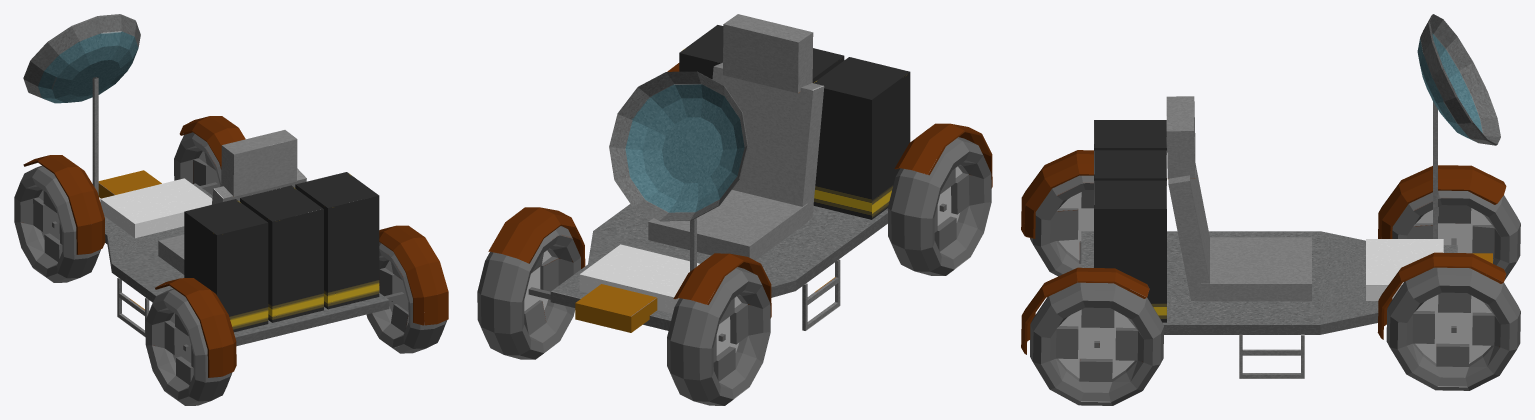
File: buggyInv.obj
3 views of the same model, side by side, from view 1: azimuth 30°, elevation 25°; view 2: azimuth 150°, elevation 25°; view 3: azimuth 270°, elevation 25° (orthographic). The views are drawn at different scales.
Parts seen in each view (by area): view 1: MainBody, Wheel_Back_Left, Wheel_Front_Left, CargoLeft, Wheel_Back_Right, CargoRight, CargoMid, RadarDish_Dish, Wheel_Front_Right; view 2: MainBody, RadarDish_Dish, Wheel_Front_Left, Wheel_Back_Left, CargoLeft, Wheel_Front_Right, CargoRight, CargoMid; view 3: MainBody, Wheel_Front_Right, Wheel_Back_Right, Wheel_Front_Left, CargoRight, Wheel_Back_Left, RadarDish_Dish, CargoMid, CargoLeft.
Part boxes in pixels (x1,y1,x2,y2): MainBody: (92,77,389,346); Wheel_Back_Left: (145,278,236,405); Wheel_Front_Left: (14,155,105,282); CargoLeft: (184,199,268,332); Wheel_Back_Right: (366,225,448,353); CargoRight: (295,172,379,309); CargoMid: (240,185,323,322); RadarDish_Dish: (23,14,140,103); Wheel_Front_Right: (174,116,245,195); MainBody: (550,14,887,332); RadarDish_Dish: (609,71,748,221); Wheel_Front_Left: (667,253,771,405); Wheel_Back_Left: (887,123,992,275); CargoLeft: (813,57,910,219); Wheel_Front_Right: (477,207,585,359); CargoRight: (679,25,723,78); CargoMid: (812,48,844,82); MainBody: (1081,96,1492,378); Wheel_Front_Right: (1377,252,1520,390); Wheel_Back_Right: (1021,267,1164,405); Wheel_Front_Left: (1378,165,1520,280); CargoRight: (1094,180,1166,322); Wheel_Back_Left: (1021,150,1093,276); RadarDish_Dish: (1417,14,1500,145); CargoMid: (1094,150,1166,180); CargoLeft: (1094,120,1166,150).
Bounding box in the file's own units: 5.91 × 5.85 × 9.02.
